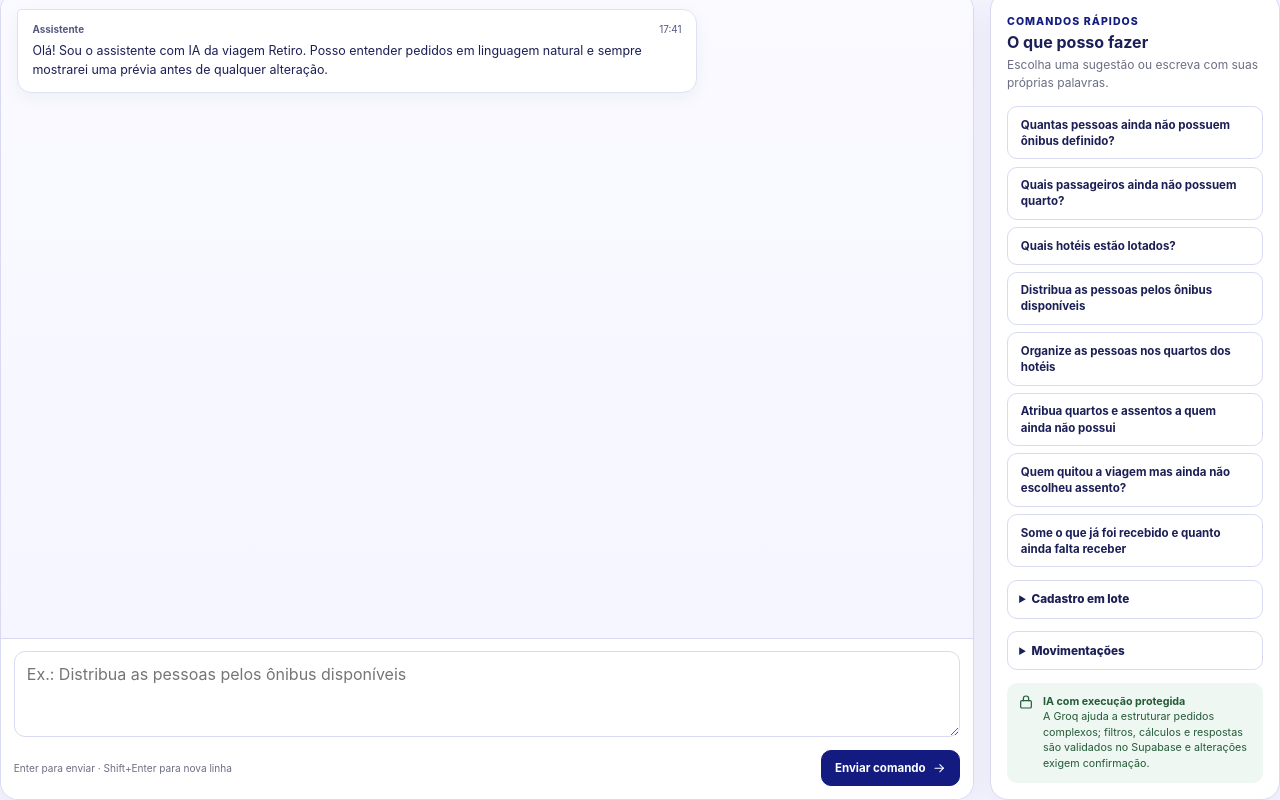
it: AdminAssistantPage › responde consultas usando dados reais carregados
The image size is (1280, 800).
(page scrolled)
Type "Quantas pessoas ainda não possuem ônibus definido?" into the text box named "Solicitação ao assistente" at (487, 694), box [14,652,960,738]
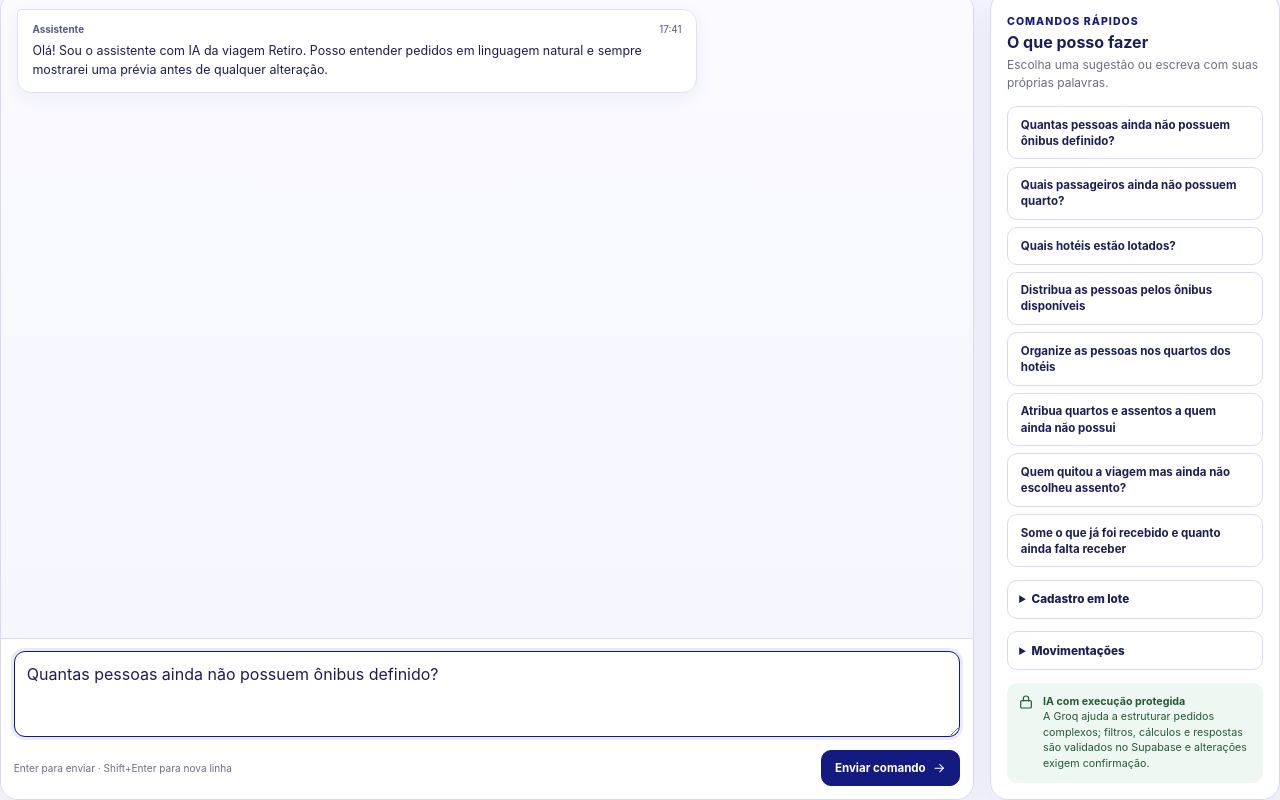
Click the button "Enviar comando" at (891, 768), box [821,750,960,786]
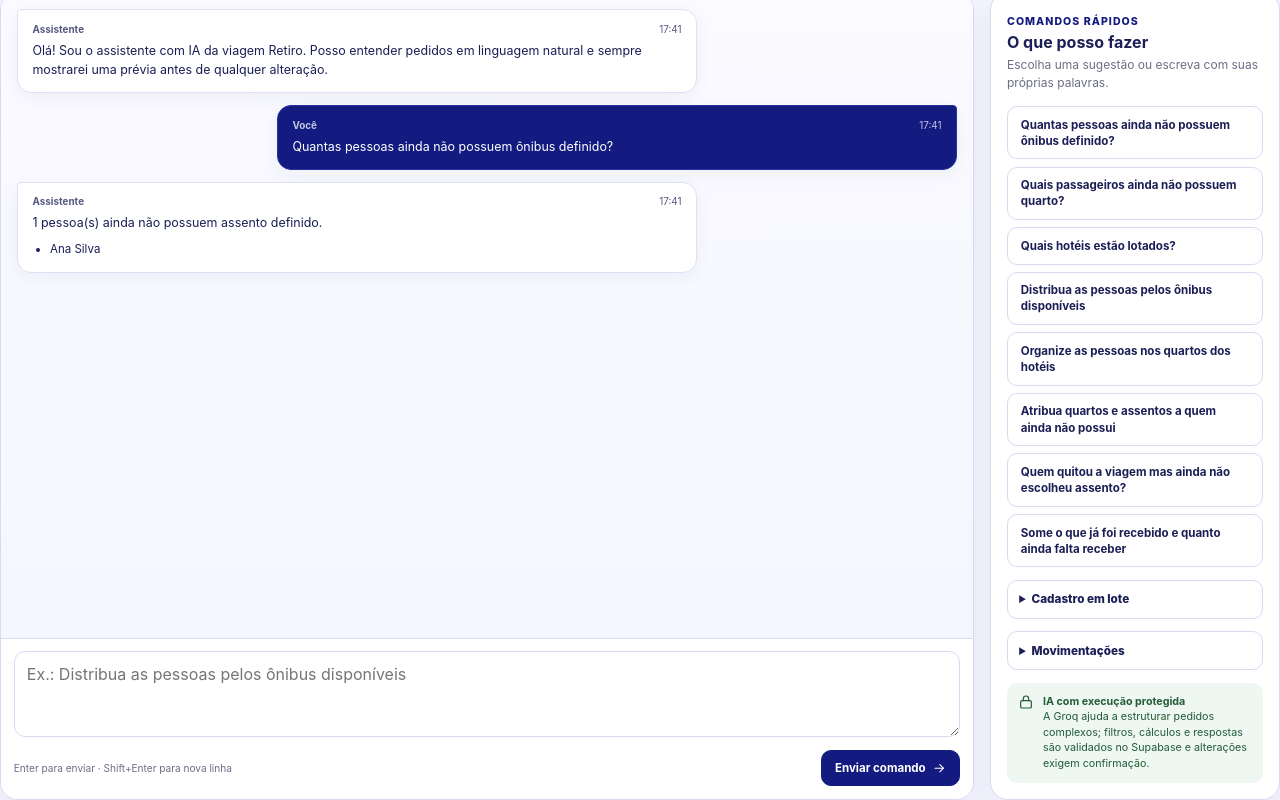
Check: the text "1 pessoa(s) ainda não possuem assento definido." is shown, box [32,215,322,230]
Check: the list item "Ana Silva" is shown, box [50,242,100,256]
